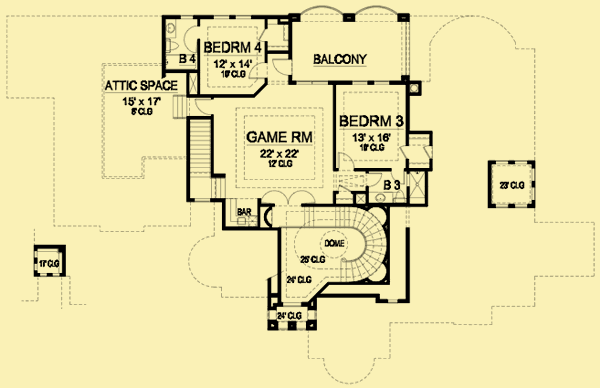door: (258, 188, 318, 208), (271, 56, 292, 76), (247, 61, 269, 80), (337, 150, 355, 172), (194, 97, 214, 116), (368, 170, 384, 189), (399, 142, 411, 161), (422, 144, 432, 160)
large sink: (393, 189, 407, 204), (167, 39, 179, 52)
small sink: (367, 188, 394, 203), (165, 16, 177, 40)
stairs: (299, 206, 389, 281), (184, 115, 228, 203), (171, 94, 191, 119)
windows: (293, 76, 330, 90), (349, 78, 392, 90), (211, 11, 253, 22)
